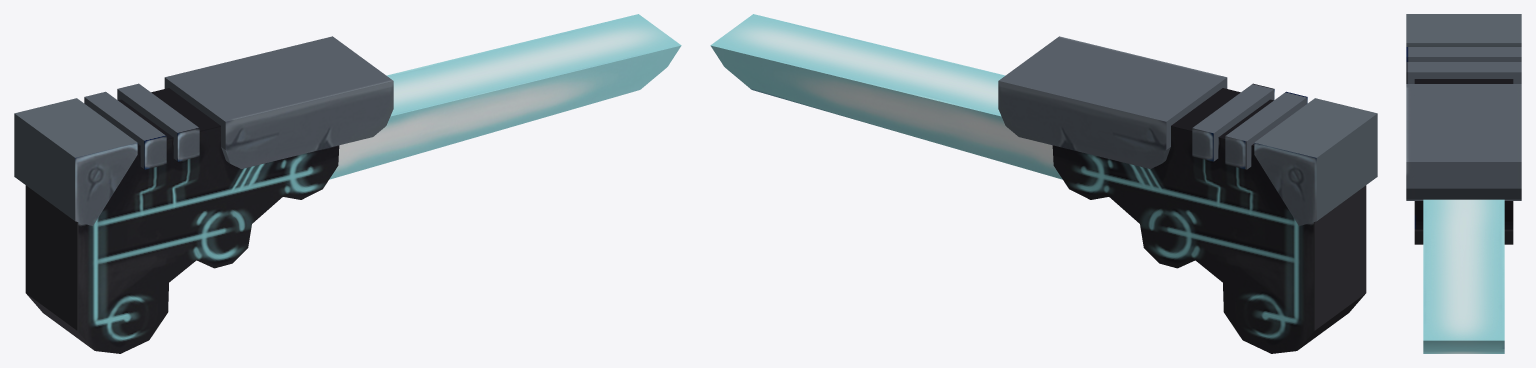
File: Platform004_Razer.FBX
3 views of the same model, side by side, from view 1: azimuth 30°, elevation 25°; view 2: azimuth 150°, elevation 25°; view 3: azimuth 270°, elevation 25° (orthographic). The views are drawn at different scales.
Visible parts, largest first — view 1: Platform003_razer, Beam; view 2: Platform003_razer, Beam; view 3: Platform003_razer, Beam.
Part boxes in pixels (x1=…): Platform003_razer: x1=14, y1=36, x2=393, y2=353; Beam: x1=329, y1=14, x2=681, y2=179; Platform003_razer: x1=998, y1=36, x2=1377, y2=353; Beam: x1=710, y1=14, x2=1062, y2=179; Platform003_razer: x1=1406, y1=14, x2=1521, y2=244; Beam: x1=1423, y1=199, x2=1504, y2=353.
Bounding box in the file's own units: 50.85 × 16.7 × 8.71.
